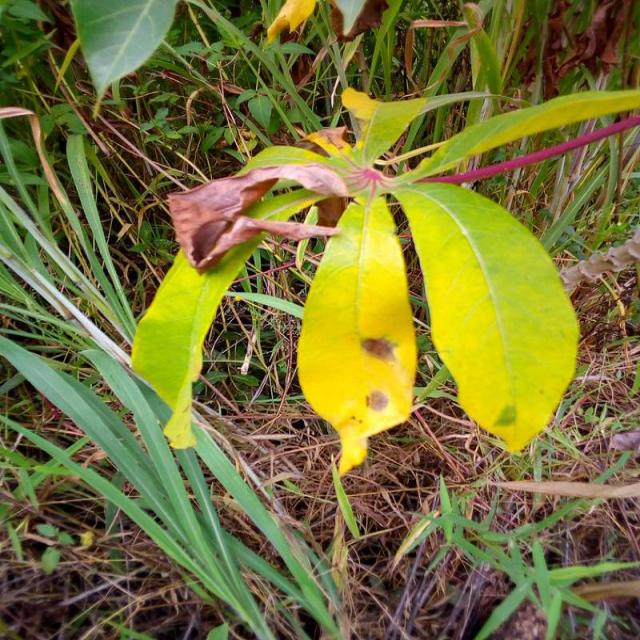cassava leaf: (391, 177, 581, 453), (296, 193, 417, 475), (129, 229, 263, 449)
